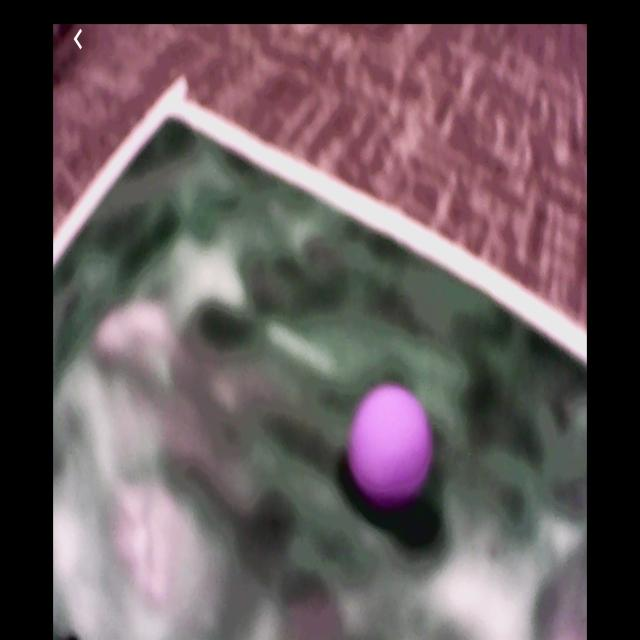ball: (346, 382, 434, 509)
